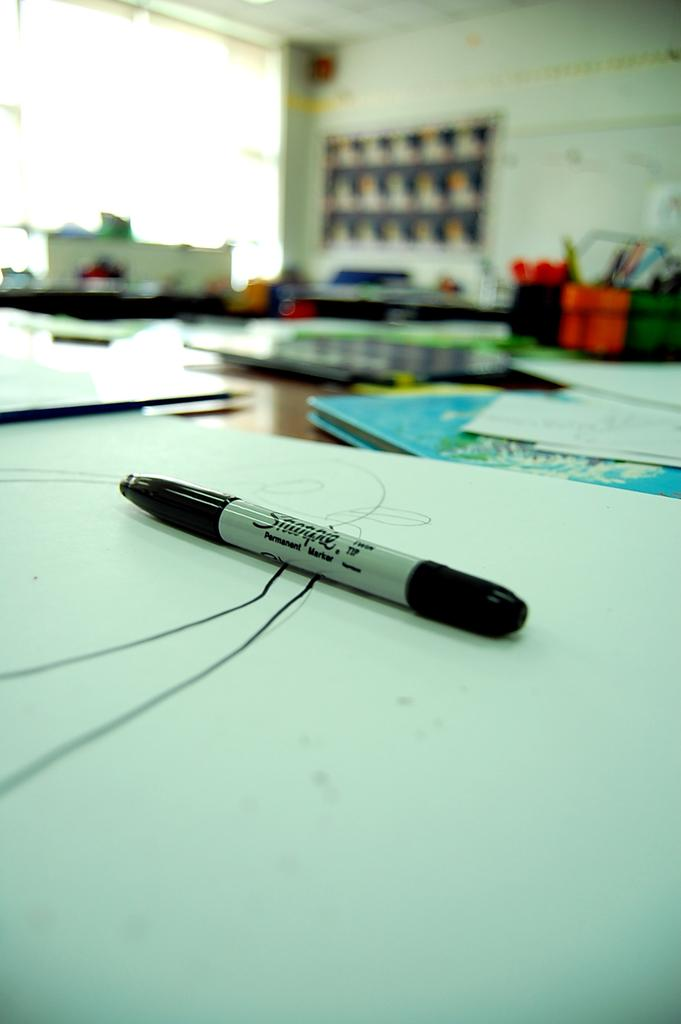pen: (117, 477, 522, 643)
